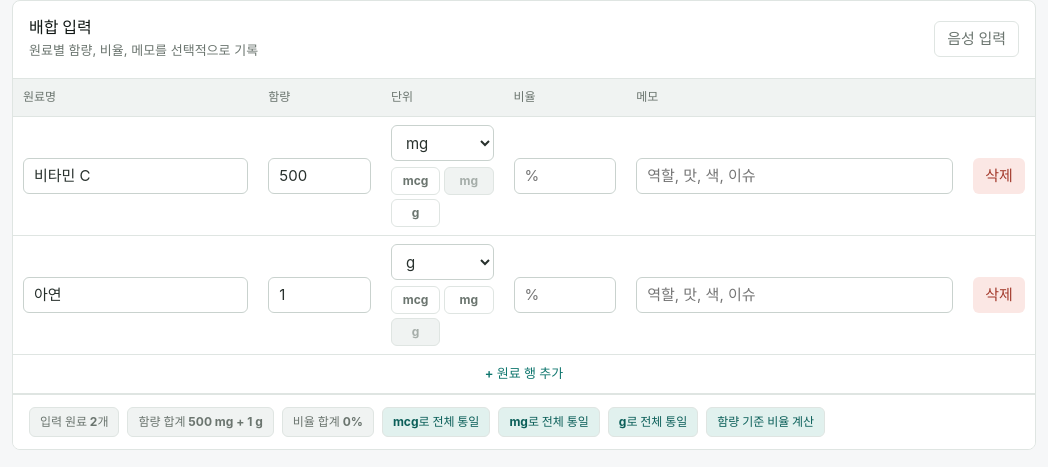
it: FormulaInputTable › normalizes mixed gram and milligram amounts to grams
Click the button "g로 전체 통일": (653, 422) [608, 407, 698, 437]
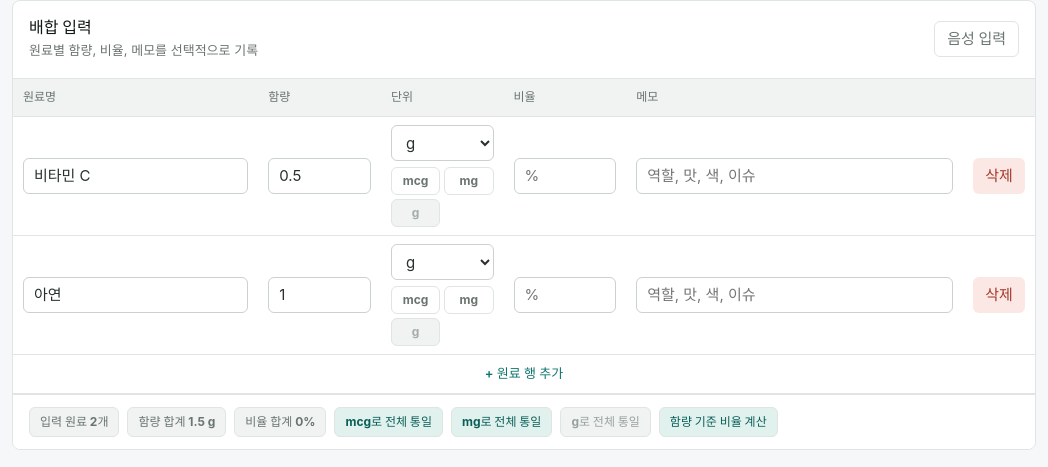
Expected: the 2nd field named "함량 1" holds "0.5", [268, 158, 371, 194]
Expected: the 1st dropdown named "단위 1" shows "g", [391, 125, 494, 161]
Expected: the text "함량 합계 1.5 g" is shown, [128, 407, 226, 437]
